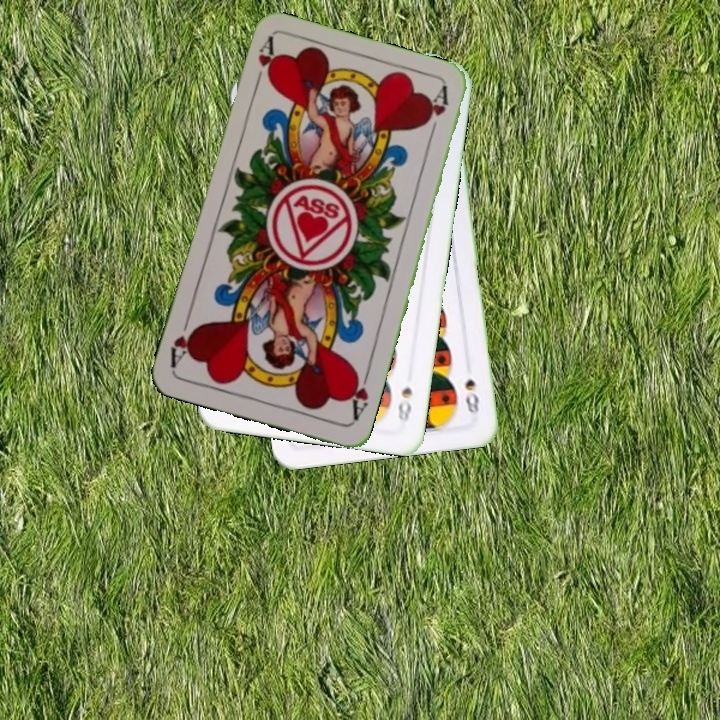HA: (343, 365, 373, 423), (250, 34, 278, 92)
S8: (393, 383, 415, 430), (461, 374, 482, 417)
